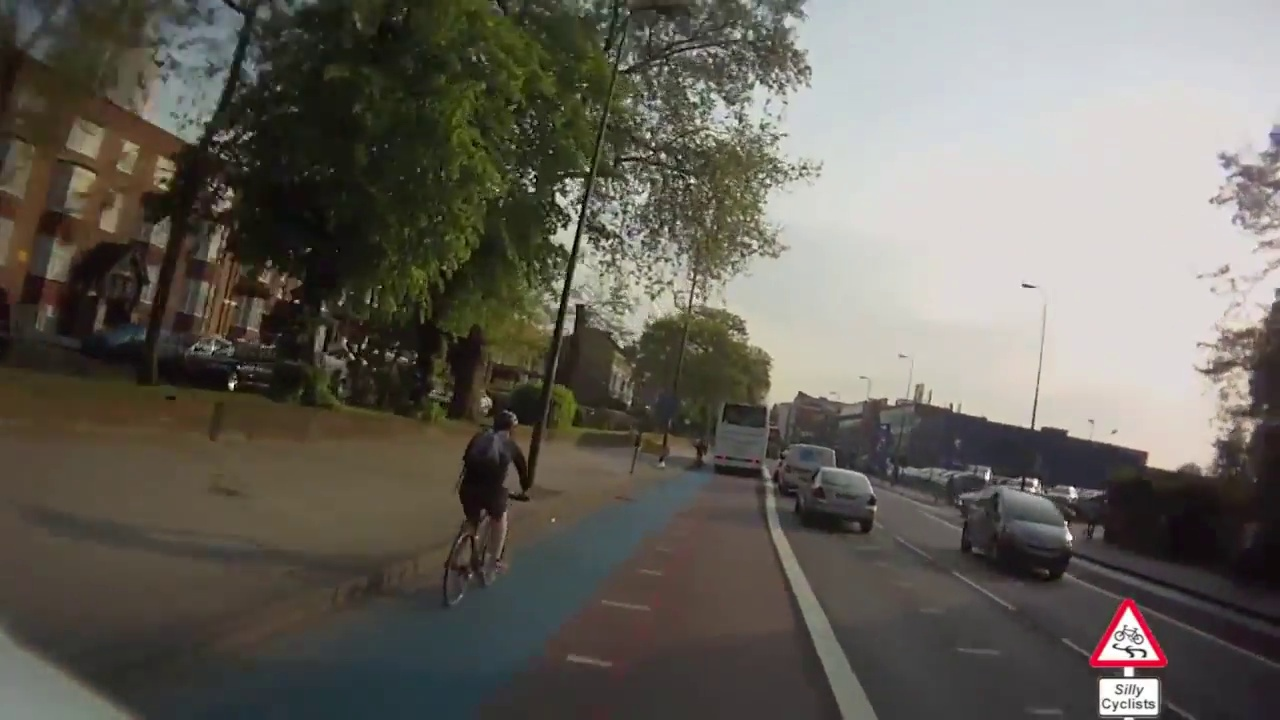cyclist_back: (447, 400, 534, 604)
